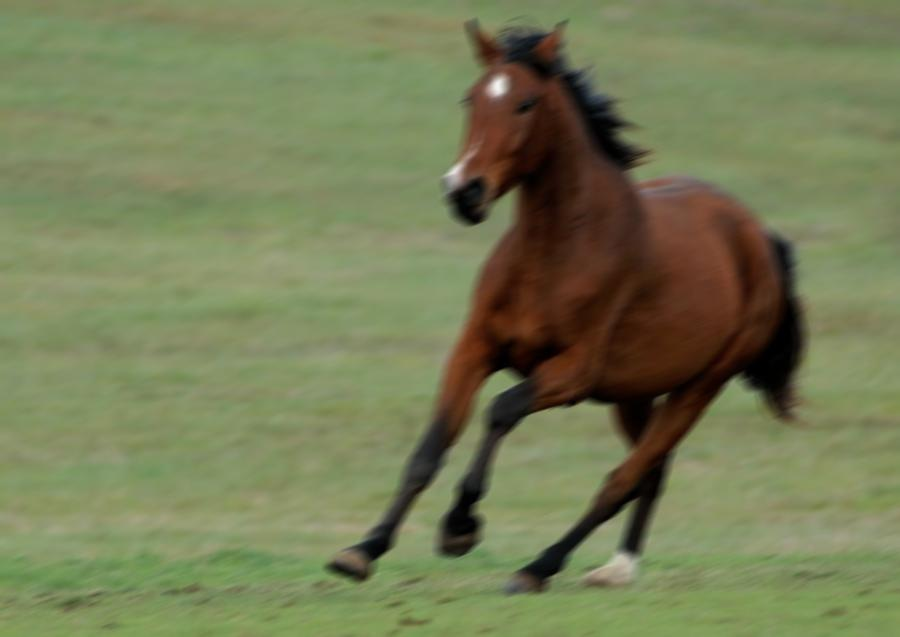horse: (314, 5, 824, 602)
